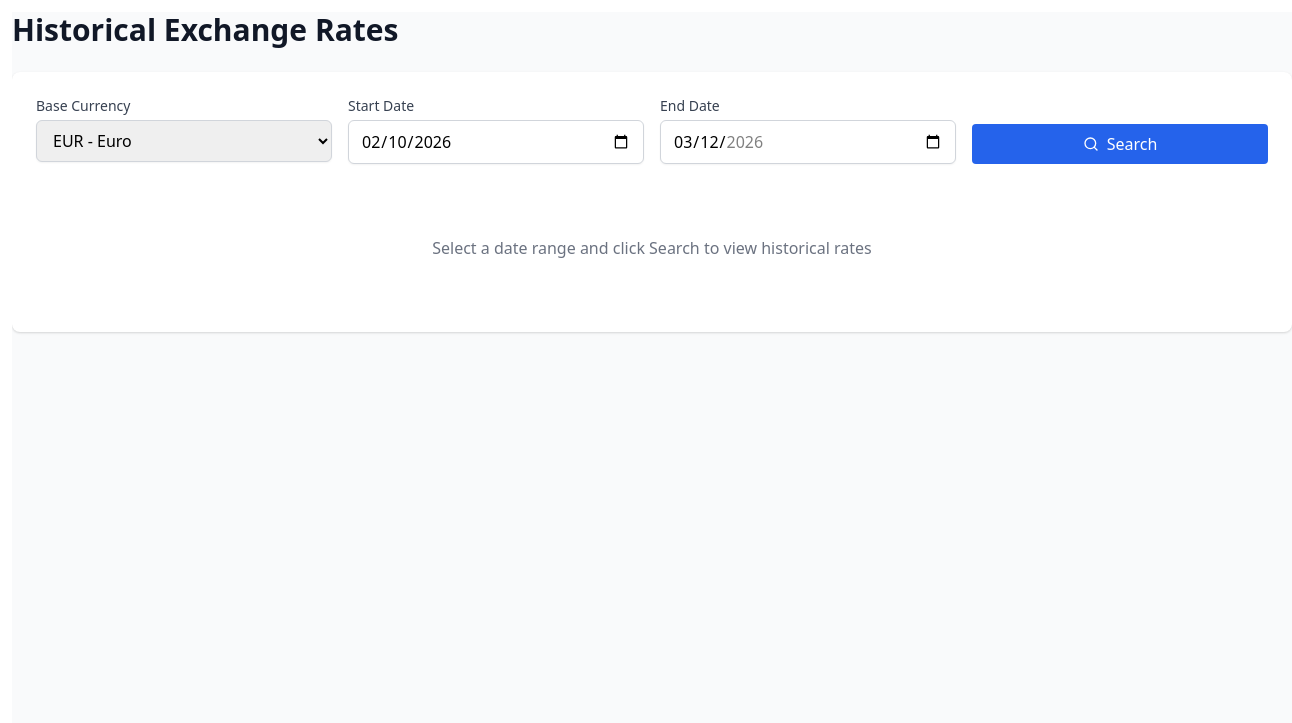
it: HistoryPage › fetches and displays historical rates
// Click search with default date range
Click the button "Search". click: (1120, 144)
box: [972,124,1268,164]
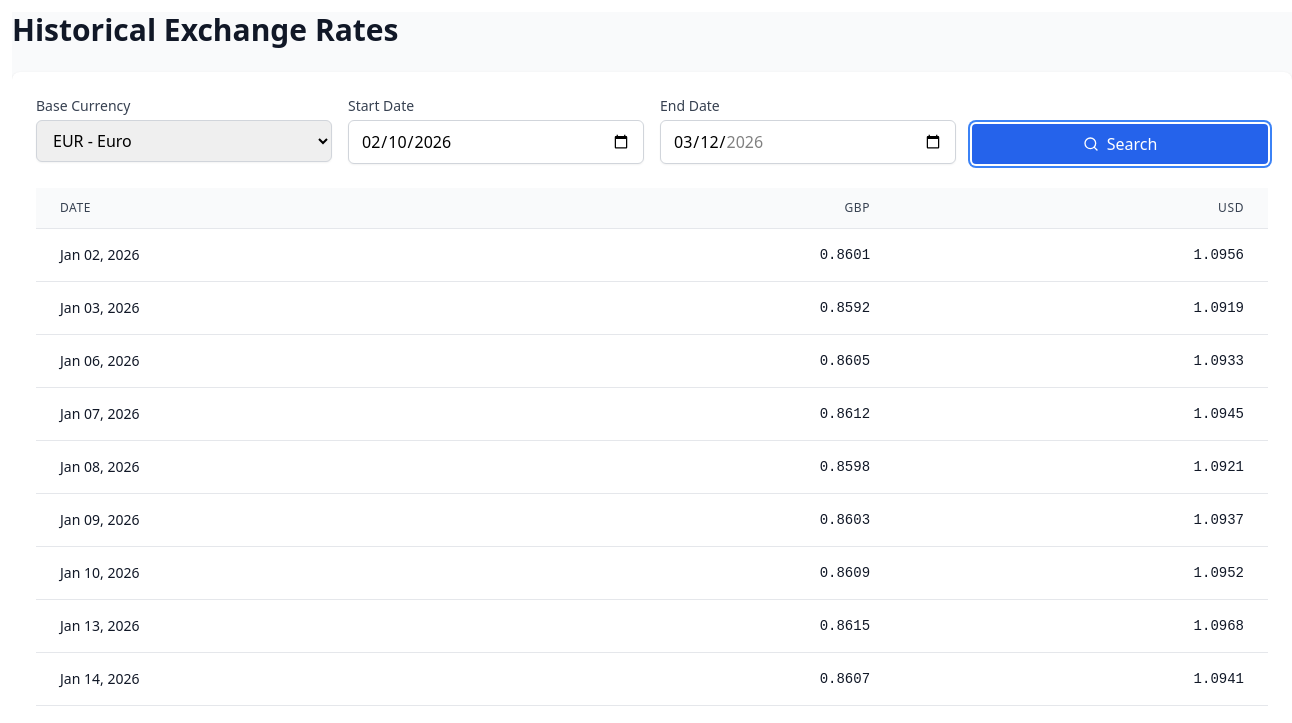
Result: the text "Jan 02, 2026" is shown at [36,228,520,282]
Result: the text "Jan 03, 2026" is shown at [36,282,520,334]
